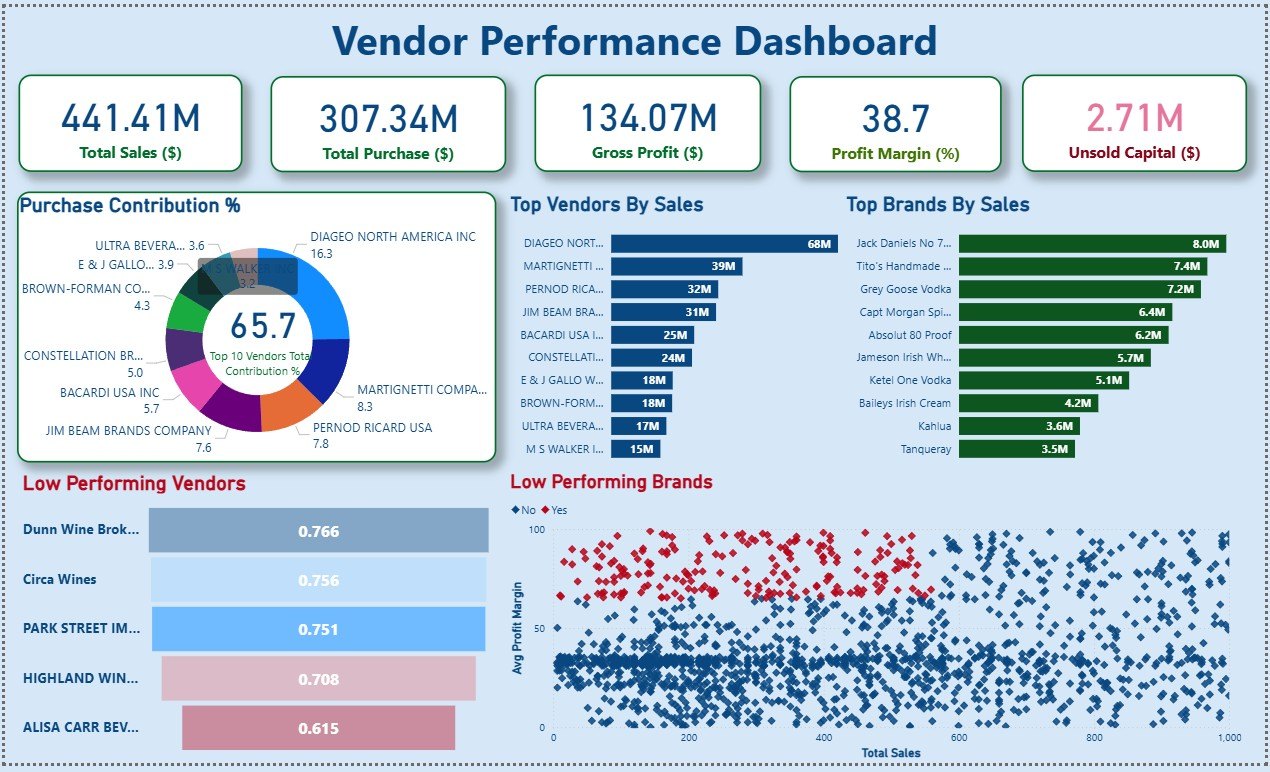

This screenshot's page, from the dashboard's own definition file:
{"tool":"powerbi","page":{"name":"Page 1","canvas":[1500,900],"ordinal":0},"visuals":[{"type":"card","fields":{"Values":["Sum(vendor_sales_summary.TotalPurchaseDollars)"]},"box":[315.8,82.4,280.9,114.6],"z":0},{"type":"card","fields":{"Values":["Sum(vendor_sales_summary.TotalSalesDollars)"]},"box":[16.8,81,266.9,116],"z":1000},{"type":"card","fields":{"Values":["Sum(vendor_sales_summary.GrossProfit)"]},"box":[630.2,81,269.7,116],"z":2000},{"type":"card","fields":{"Values":["Sum(vendor_sales_summary.ProfitMargin)"]},"box":[934.8,82.4,252.9,114.6],"z":3000},{"type":"card","fields":{"Values":["Sum(vendor_sales_summary.UnsoldCapital)"]},"box":[1210.1,81,268.3,116],"z":4000},{"type":"textbox","box":[0,0,1500,83],"z":5000},{"type":"donutChart","title":"Purchase Contribution % ","fields":{"Category":["PurchaseContribution.VendorName"],"Y":["Sum(PurchaseContribution.PurchaseContribution%)"]},"box":[14.5,219.4,571,322.6],"z":6000},{"type":"card","fields":{"Values":["Sum(PurchaseContribution.PurchaseContribution%)"]},"box":[211.8,266.7,188.2,233.3],"z":7000},{"type":"barChart","title":"Top Vendors By Sales","fields":{"Category":["vendor_sales_summary.VendorName"],"Y":["Sum(vendor_sales_summary.TotalSalesDollars)"]},"box":[597.3,219.2,447.9,332.9],"z":8000},{"type":"barChart","title":"Top Brands By Sales","fields":{"Category":["vendor_sales_summary.Description"],"Y":["Sum(vendor_sales_summary.TotalSalesDollars)"]},"box":[995.9,219.2,504.1,332.9],"z":9000},{"type":"funnel","title":"Low Performing Vendors","fields":{"Category":["LowTurnoverVendor.VendorName"],"Y":["Avg(LowTurnoverVendor.AvgStockTurnOver)"]},"box":[16.1,551.6,569.4,348.4],"z":10000},{"type":"scatterChart","title":"Low Performing Brands","fields":{"X":["Sum(BrandPerformance.TotalSales)"],"Y":["Sum(BrandPerformance.AvgProfitMargin)"],"Series":["BrandPerformance.TargetBrand"],"Category":["BrandPerformance.Description"]},"box":[596.8,551.6,880.6,348.4],"z":11000}]}

Visuals, with their boxes in screenshot pixels (x1, y1, x2, y2), scaled from the page's 1500x900 canvas onto the 1270x772 screenshot:
card - Sum(vendor_sales_summary.TotalPurchaseDollars): <region>267, 71, 505, 169</region>
card - Sum(vendor_sales_summary.TotalSalesDollars): <region>14, 69, 240, 169</region>
card - Sum(vendor_sales_summary.GrossProfit): <region>534, 69, 762, 169</region>
card - Sum(vendor_sales_summary.ProfitMargin): <region>791, 71, 1006, 169</region>
card - Sum(vendor_sales_summary.UnsoldCapital): <region>1025, 69, 1252, 169</region>
textbox: <region>0, 0, 1269, 71</region>
"Purchase Contribution % " donutChart: <region>12, 188, 496, 465</region>
card - Sum(PurchaseContribution.PurchaseContribution%): <region>179, 229, 339, 429</region>
"Top Vendors By Sales" barChart: <region>506, 188, 885, 474</region>
"Top Brands By Sales" barChart: <region>843, 188, 1269, 474</region>
"Low Performing Vendors" funnel: <region>14, 473, 496, 771</region>
"Low Performing Brands" scatterChart: <region>505, 473, 1251, 771</region>
